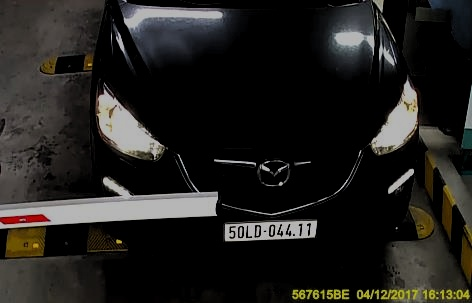plate: (222, 213, 320, 246)
